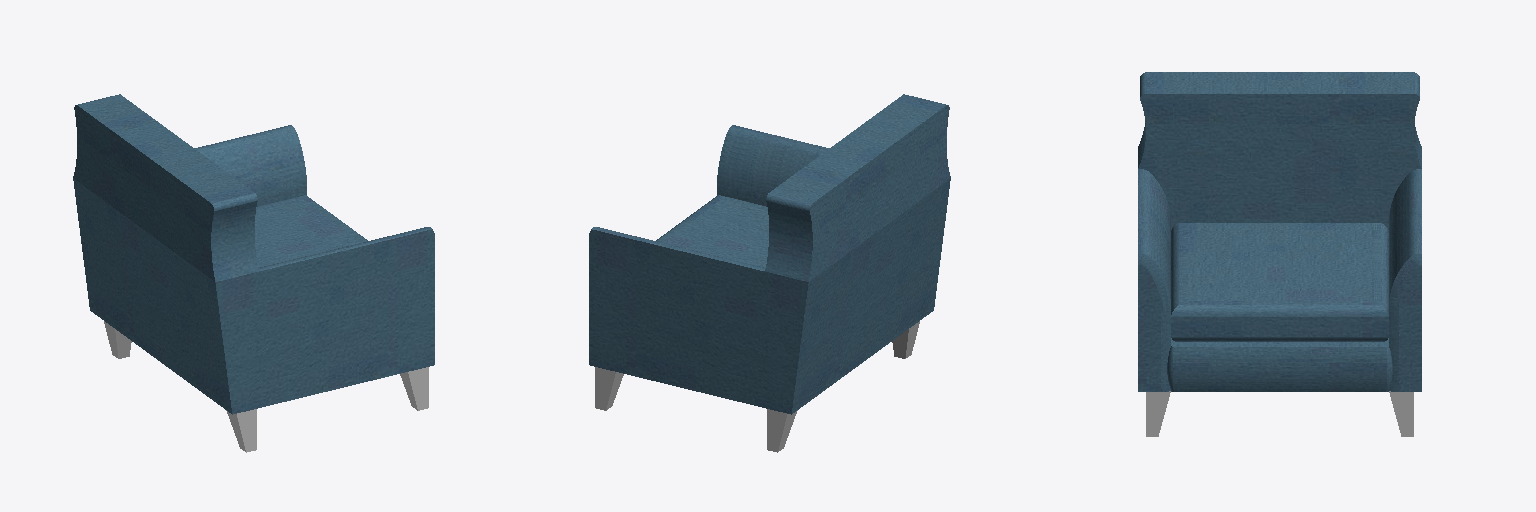
The picture shows the model from 3 angles: view 1: azimuth 30°, elevation 25°; view 2: azimuth 150°, elevation 25°; view 3: azimuth 270°, elevation 25°; orthographic projection.
Visible parts, largest first — view 1: poltrona; view 2: poltrona; view 3: poltrona.
Boxes of the visible parts, x1,y1,x2,y2 form: poltrona: [73, 94, 434, 452]; poltrona: [589, 94, 950, 452]; poltrona: [1138, 72, 1421, 436].
Bounding box in the file's own units: 0.7829 × 0.8636 × 0.8636.
2 materials, 1 textured.